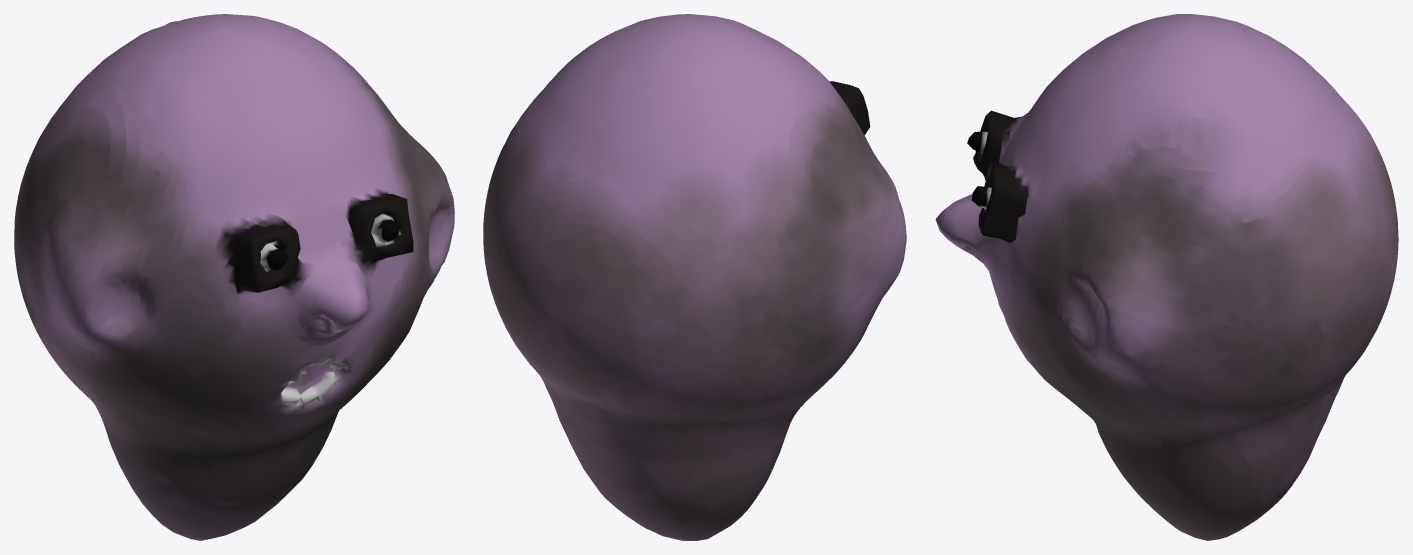
File: sc_dudehead.gltf
3 renders of one model, left to right at view 1: azimuth 30°, elevation 25°; view 2: azimuth 150°, elevation 25°; view 3: azimuth 270°, elevation 25°, orthographic. The views are drawn at different scales.
Parts seen in each view (by area): view 1: Layer_1; view 2: Layer_1; view 3: Layer_1.
Part boxes in pixels (x1,y1,x2,y2): Layer_1: (14, 14, 454, 540); Layer_1: (483, 14, 906, 540); Layer_1: (935, 14, 1398, 540).
Size of the model in its own units: 0.4186 by 0.5379 by 0.447.
